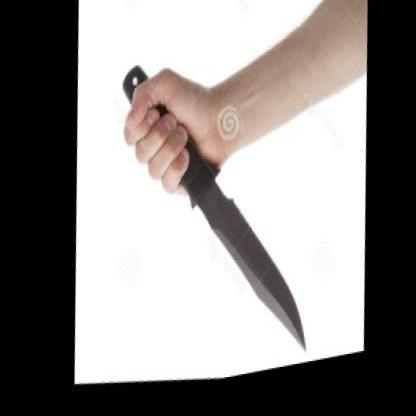knife: (124, 85, 324, 392)
